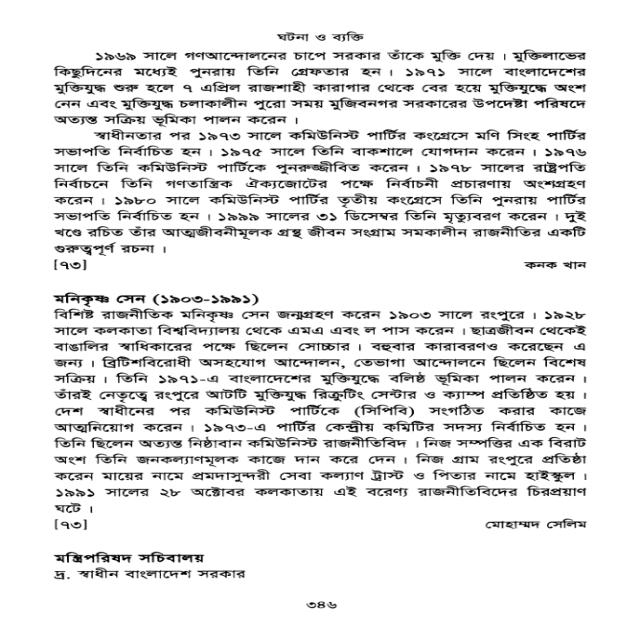page number: (301, 597, 343, 614)
paragraph: (51, 304, 593, 510), (49, 127, 593, 261), (52, 47, 585, 127)
text: (48, 290, 263, 307), (50, 566, 251, 583), (50, 549, 210, 566), (479, 515, 592, 536), (519, 257, 590, 274), (51, 258, 90, 274), (50, 517, 95, 530)
title: (269, 29, 369, 45)
